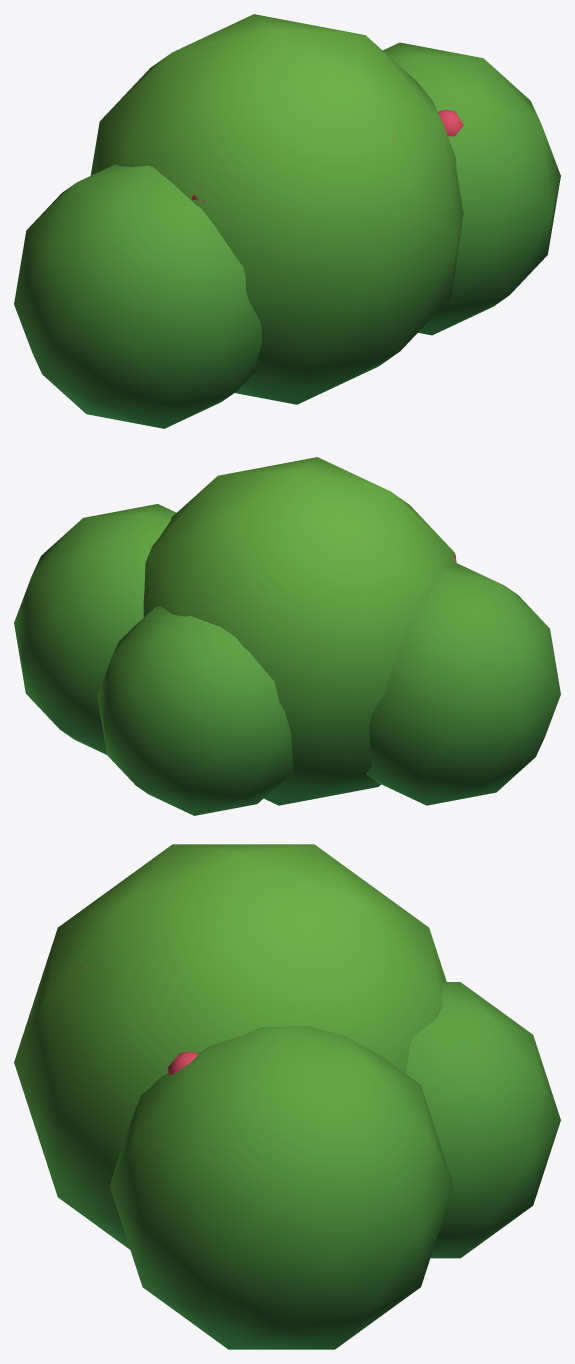
The model's file is ENV_Bush.glb.
3 views of the same model, one above another, from view 1: azimuth 30°, elevation 25°; view 2: azimuth 150°, elevation 25°; view 3: azimuth 270°, elevation 25° (orthographic). The views are drawn at different scales.
Parts seen in each view (by area): view 1: Bush; view 2: Bush; view 3: Bush.
Boxes of the visible parts, x1,y1,x2,y2 form: Bush: (14, 14, 560, 428); Bush: (14, 457, 560, 815); Bush: (14, 844, 560, 1349).
Size of the model in its own units: 1.88 by 1.2 by 1.43.
